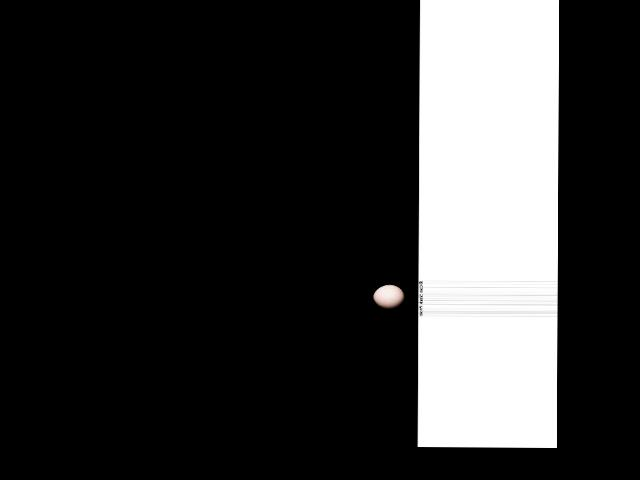egg: (373, 285, 405, 309)
